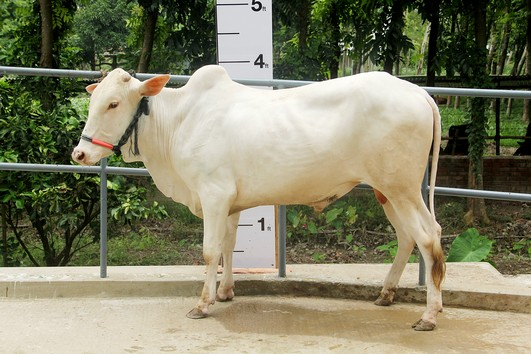cow: (61, 55, 460, 339)
